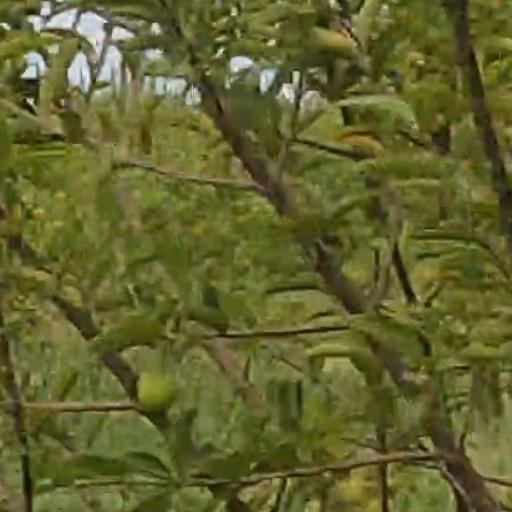acerola_verde: (136, 373, 173, 412)
